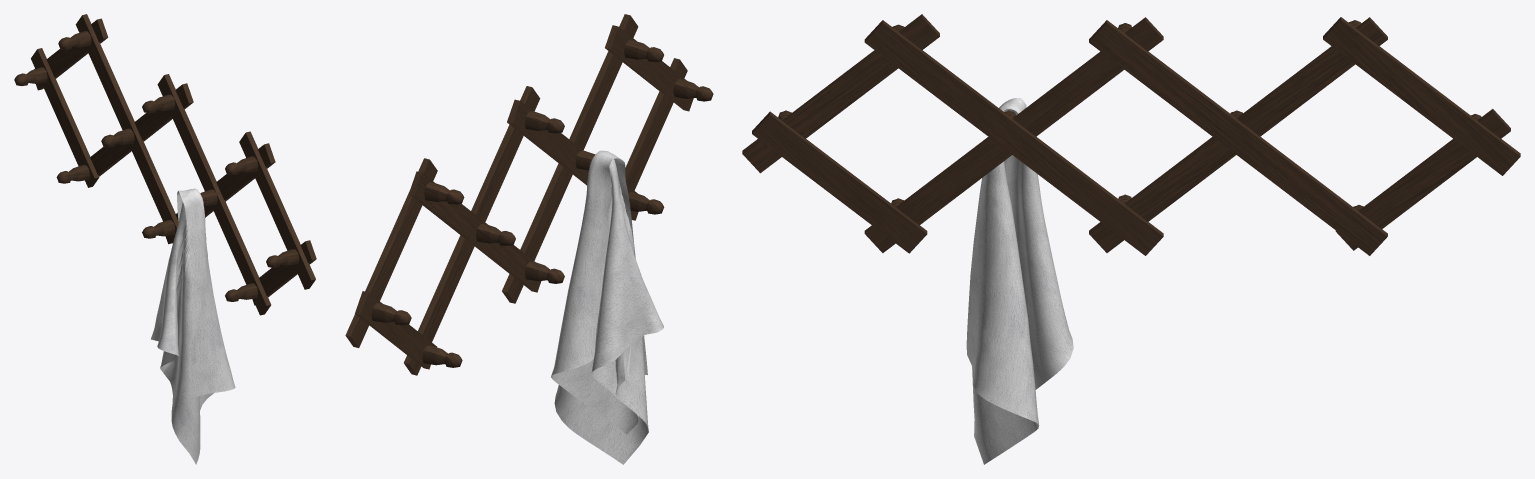
The model's file is towel_rail.glb.
The picture shows the model from 3 angles, left to right: view 1: azimuth 30°, elevation 25°; view 2: azimuth 150°, elevation 25°; view 3: azimuth 270°, elevation 25°; orthographic projection. The views are drawn at different scales.
Visible parts, largest first — view 1: Object_2; view 2: Object_2; view 3: Object_2.
Boxes of the visible parts, left/top/right/bottom form: Object_2: left=14, top=14, right=316, bottom=464; Object_2: left=345, top=14, right=713, bottom=464; Object_2: left=742, top=14, right=1520, bottom=464.
Size of the model in its own units: 14.25 by 59.14 by 88.98.
1 material, 1 textured.
